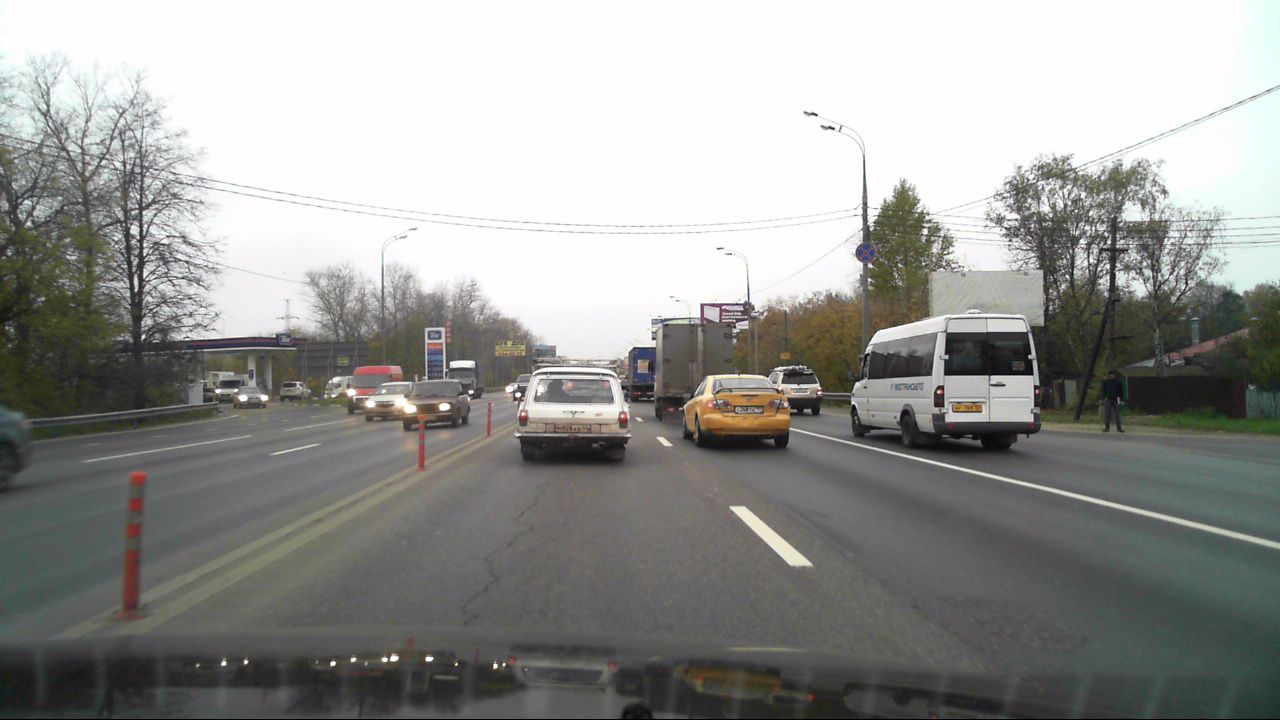No Parking: (855, 243, 875, 262)
